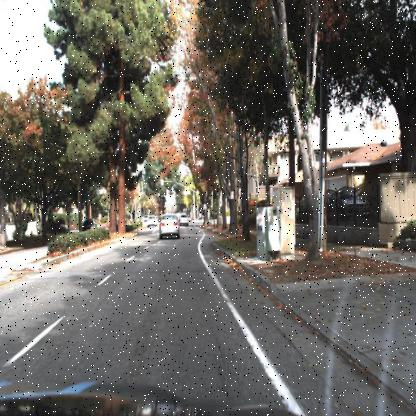car: (326, 184, 364, 226), (154, 206, 185, 246), (177, 204, 192, 226), (80, 216, 98, 232), (146, 212, 158, 228)
trafficLight-Green: (170, 176, 178, 194), (205, 190, 213, 204), (193, 194, 199, 209)
